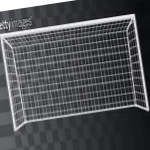goals: (2, 12, 150, 129)
